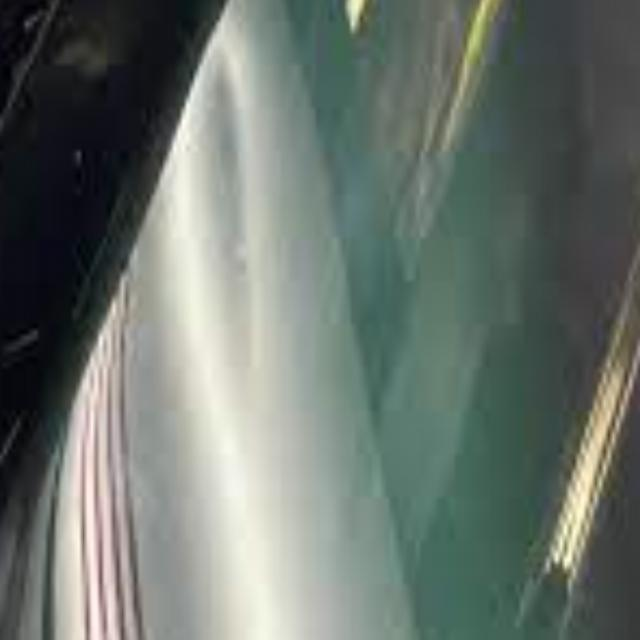dents: (205, 44, 262, 385)
